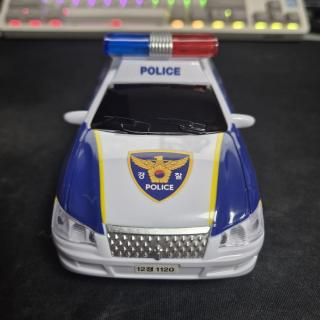Police_car: (51, 33, 264, 279)
